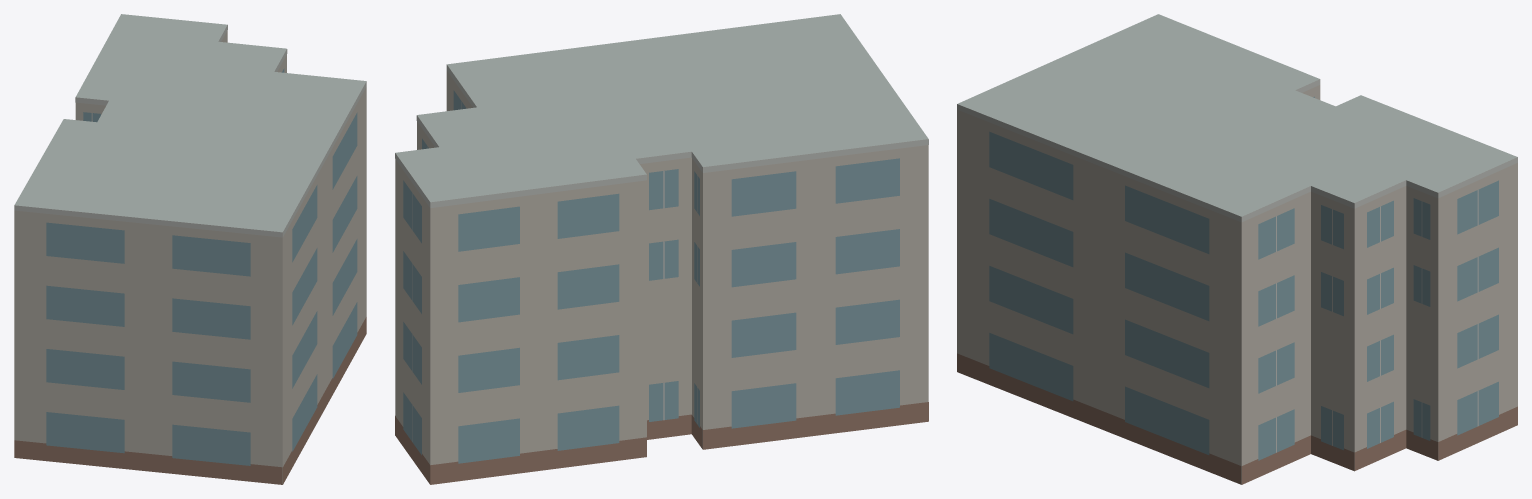
Rendered from survey-upis-32674481.glb.
3 views of the same model, side by side, from view 1: azimuth 30°, elevation 25°; view 2: azimuth 150°, elevation 25°; view 3: azimuth 270°, elevation 25° (orthographic). The views are drawn at different scales.
Parts seen in each view (by area): view 1: survey-upis-32674481.tmp; view 2: survey-upis-32674481.tmp; view 3: survey-upis-32674481.tmp.
Part boxes in pixels (left/top/right/bottom): survey-upis-32674481.tmp: left=14, top=14, right=366, bottom=484; survey-upis-32674481.tmp: left=395, top=14, right=928, bottom=484; survey-upis-32674481.tmp: left=957, top=14, right=1517, bottom=484.
Bounding box in the file's own units: 19.03 × 11.72 × 22.23.
